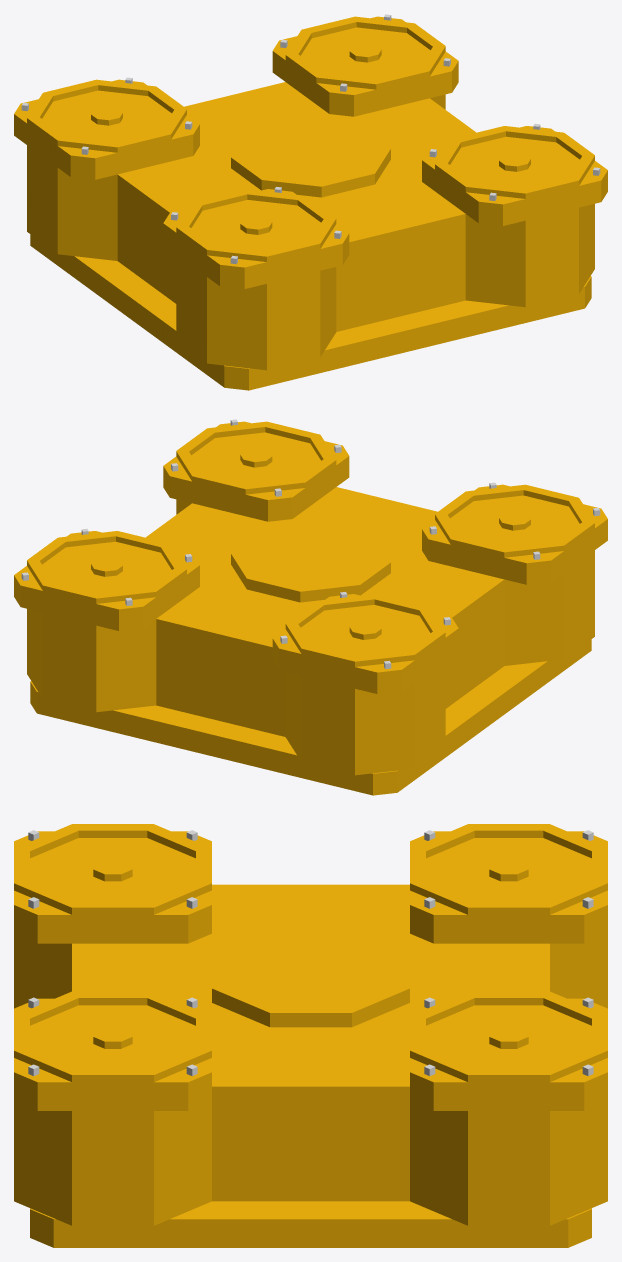
File: modular_engine_power_manifold_housing_3x3.dae
The picture shows the model from 3 angles, top to bottom: view 1: azimuth 30°, elevation 25°; view 2: azimuth 150°, elevation 25°; view 3: azimuth 270°, elevation 25°; orthographic projection. The views are drawn at different scales.
Visible parts, largest first — view 1: Cube.002; view 2: Cube.002; view 3: Cube.002.
Part boxes in pixels (bbox=[...]): Cube.002: bbox=[14, 14, 607, 390]; Cube.002: bbox=[14, 419, 607, 795]; Cube.002: bbox=[14, 824, 607, 1247].
Bounding box in the file's own units: 0.75 × 0.75 × 0.25.
